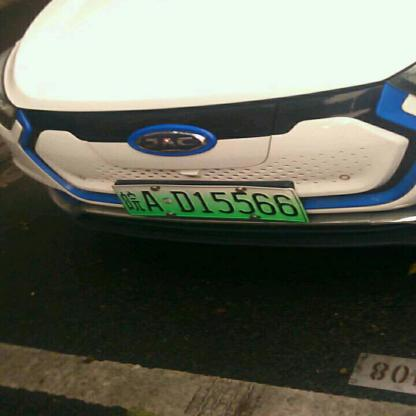lp: (112, 186, 307, 221)
